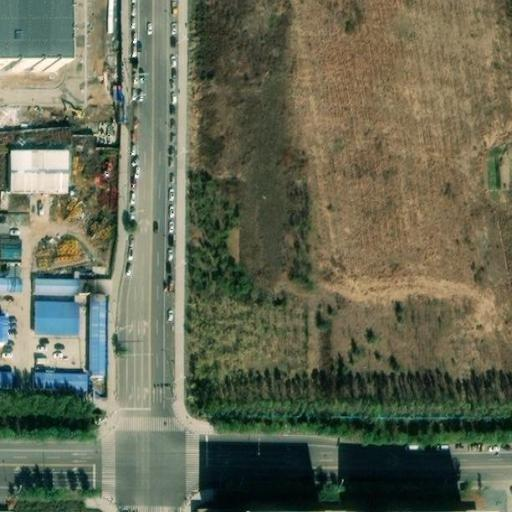building: (0, 0, 76, 74), (11, 149, 69, 192), (2, 121, 76, 147), (34, 301, 79, 335), (89, 294, 105, 375), (33, 373, 87, 390), (35, 278, 79, 294), (0, 239, 22, 260), (0, 366, 15, 389), (0, 277, 21, 290), (0, 316, 9, 341), (94, 280, 110, 294), (79, 280, 94, 294)
